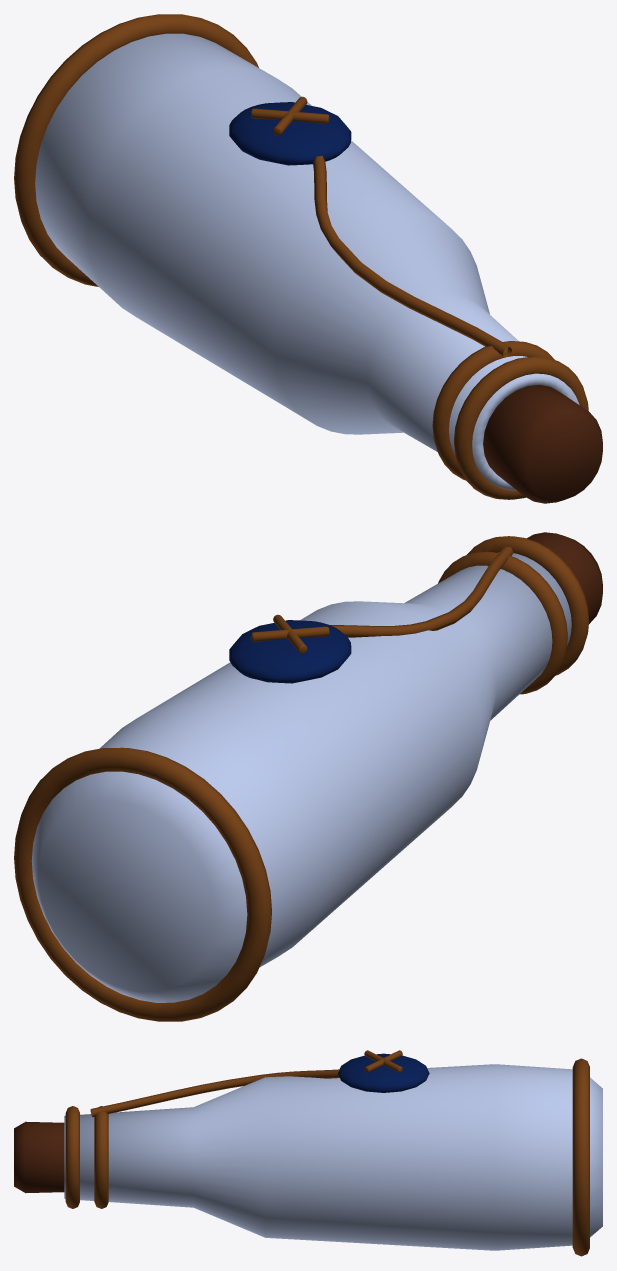
File: Potion_Blue.obj
3 views of the same model, one above another, from view 1: azimuth 30°, elevation 25°; view 2: azimuth 150°, elevation 25°; view 3: azimuth 270°, elevation 25° (orthographic). The views are drawn at different scales.
Visible parts, largest first — view 1: Thick_Walled_Blue_Bottle, Cork_Stopper, Base_Metal_Trim, Wax_Seal, Neck_Brass_Ring.001, Seal_Cord, Neck_Brass_Ring, Seal_Rune.001; view 2: Thick_Walled_Blue_Bottle, Base_Metal_Trim, Wax_Seal, Neck_Brass_Ring.001, Neck_Brass_Ring, Seal_Cord, Cork_Stopper, Seal_Rune; view 3: Thick_Walled_Blue_Bottle, Cork_Stopper, Base_Metal_Trim, Wax_Seal, Seal_Cord, Neck_Brass_Ring.001, Neck_Brass_Ring.
Boxes of the visible parts, x1,y1,x2,y2 form: Thick_Walled_Blue_Bottle: [35, 33, 579, 490]; Cork_Stopper: [483, 384, 602, 503]; Base_Metal_Trim: [14, 14, 258, 286]; Wax_Seal: [229, 102, 351, 165]; Neck_Brass_Ring.001: [454, 356, 588, 499]; Seal_Cord: [313, 155, 512, 357]; Neck_Brass_Ring: [432, 341, 554, 480]; Seal_Rune.001: [251, 108, 329, 123]; Thick_Walled_Blue_Bottle: [31, 552, 571, 1002]; Base_Metal_Trim: [14, 747, 271, 1021]; Wax_Seal: [229, 620, 351, 683]; Neck_Brass_Ring.001: [467, 536, 589, 675]; Neck_Brass_Ring: [438, 551, 567, 694]; Seal_Cord: [330, 546, 513, 637]; Cork_Stopper: [527, 532, 602, 623]; Seal_Rune: [251, 626, 329, 641]; Thick_Walled_Blue_Bottle: [64, 1064, 602, 1250]; Cork_Stopper: [14, 1121, 64, 1193]; Base_Metal_Trim: [572, 1058, 589, 1256]; Wax_Seal: [337, 1053, 429, 1092]; Seal_Cord: [90, 1069, 339, 1117]; Neck_Brass_Ring.001: [65, 1106, 79, 1208]; Neck_Brass_Ring: [94, 1106, 108, 1208].
Bounding box in the file's own units: 0.138 × 0.1449 × 0.41.
